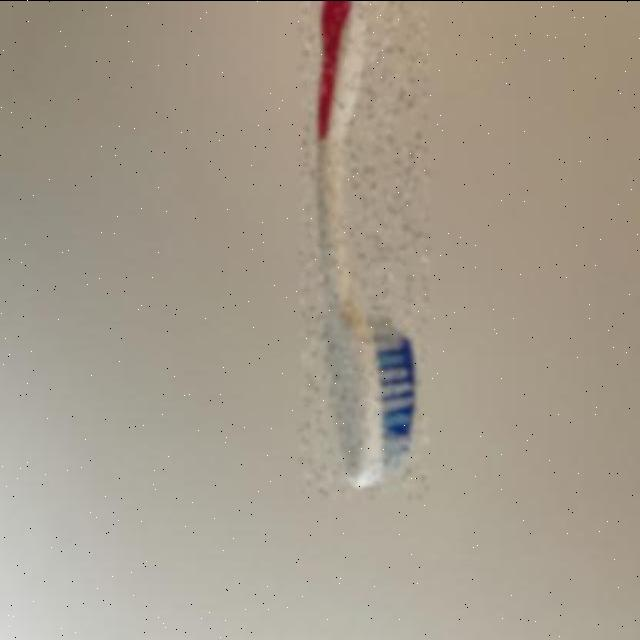toothbrush: (300, 0, 430, 496)
